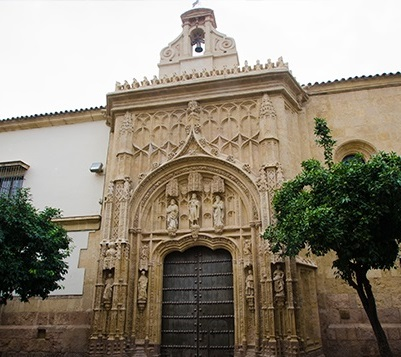arco-conopial: (141, 128, 253, 181)
arco-trilobulado: (152, 229, 239, 264)
